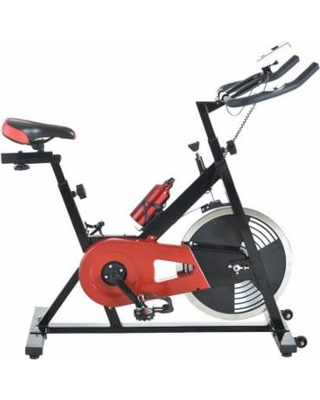gym_bike: (6, 49, 317, 368)
